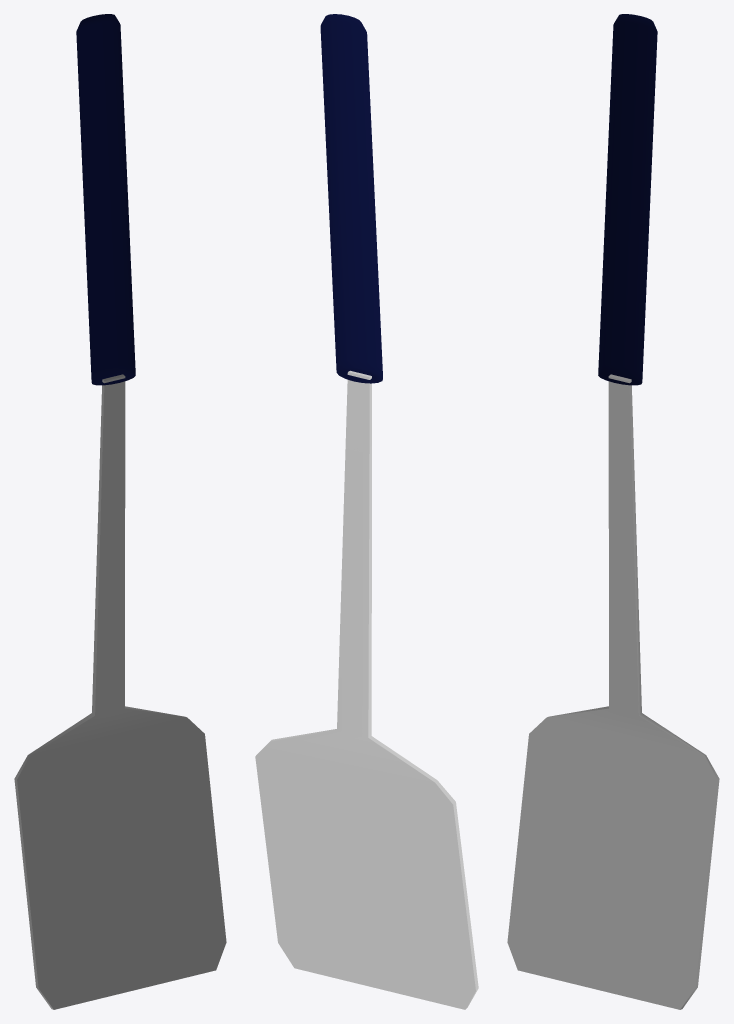
The model's file is Spatula1_ecc9a1ae.obj.
3 views of the same model, side by side, from view 1: azimuth 30°, elevation 25°; view 2: azimuth 150°, elevation 25°; view 3: azimuth 330°, elevation 25° (orthographic). The views are drawn at different scales.
Visible parts, largest first — view 1: Spatula1_ecc9a1ae; view 2: Spatula1_ecc9a1ae; view 3: Spatula1_ecc9a1ae.
Part boxes in pixels (x1,y1,x2,y2): Spatula1_ecc9a1ae: (14, 14, 226, 1009); Spatula1_ecc9a1ae: (255, 14, 478, 1009); Spatula1_ecc9a1ae: (507, 14, 719, 1009).
Bounding box in the file's own units: 0.0779 × 0.3744 × 0.0308.
